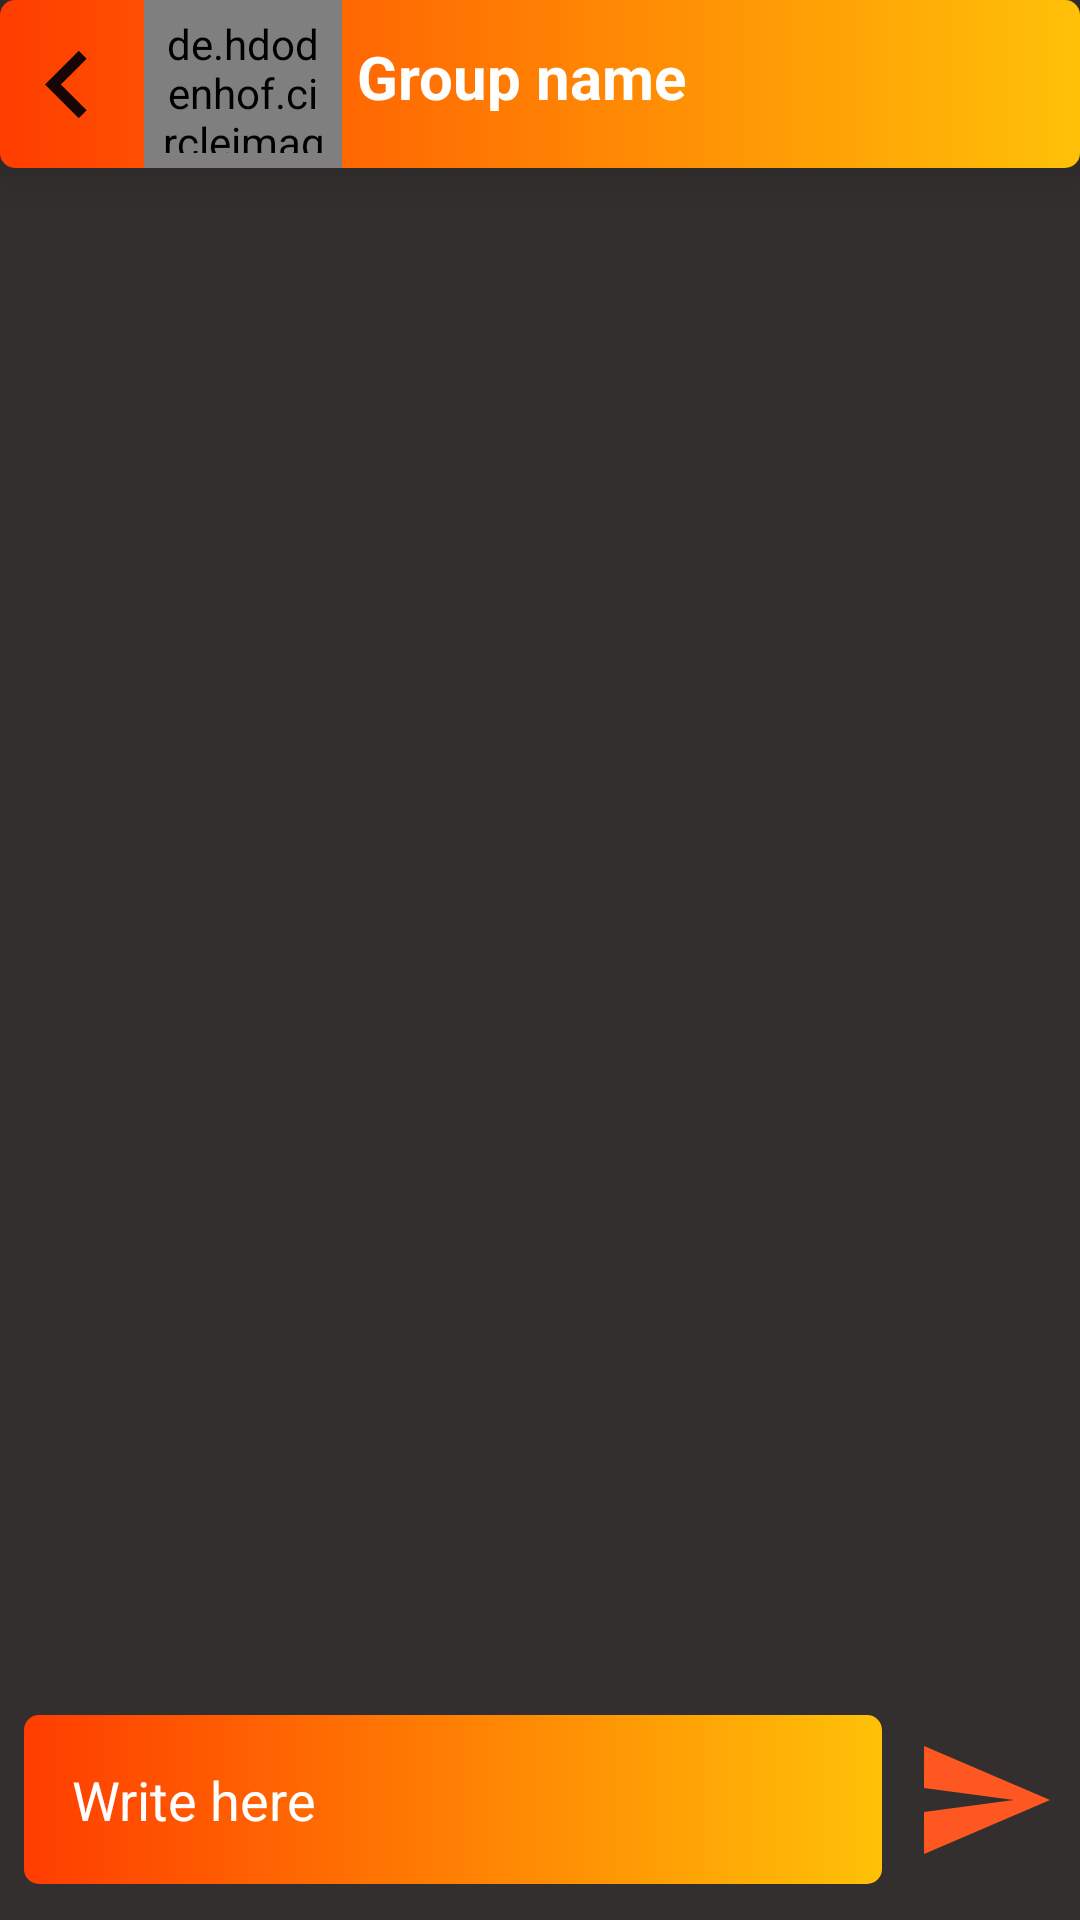

Named icons in this screenshot (1080×1920) and their bounding boxes, (x1, y1, x2, y2):
left: (0, 0, 87, 168)
send: (924, 1746, 1050, 1854)
